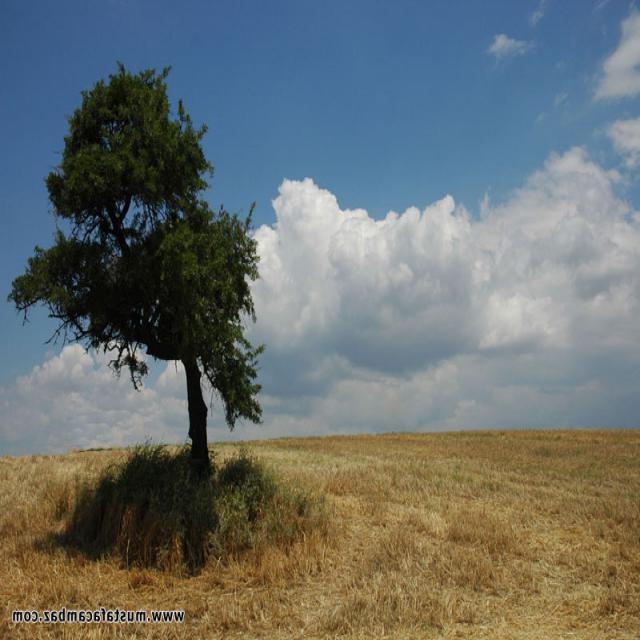tree: (10, 68, 264, 468)
